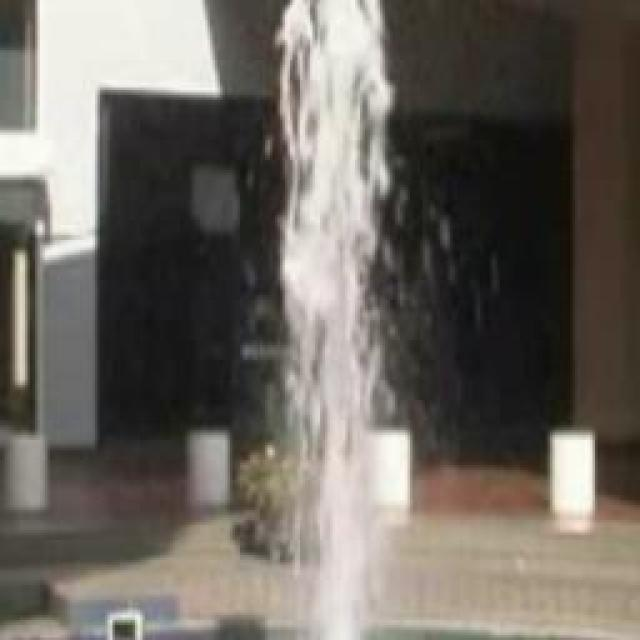other: (227, 342, 440, 635)
